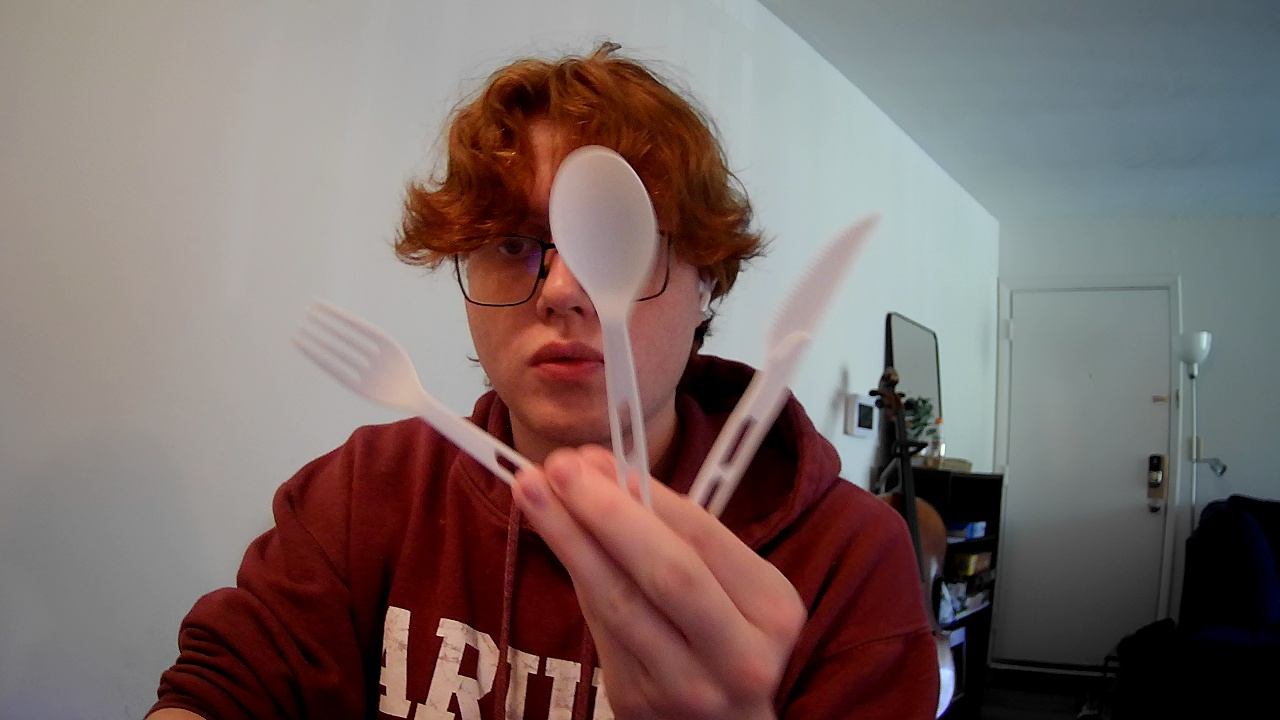trash: (247, 297, 573, 562), (659, 200, 901, 546), (528, 138, 678, 503)
